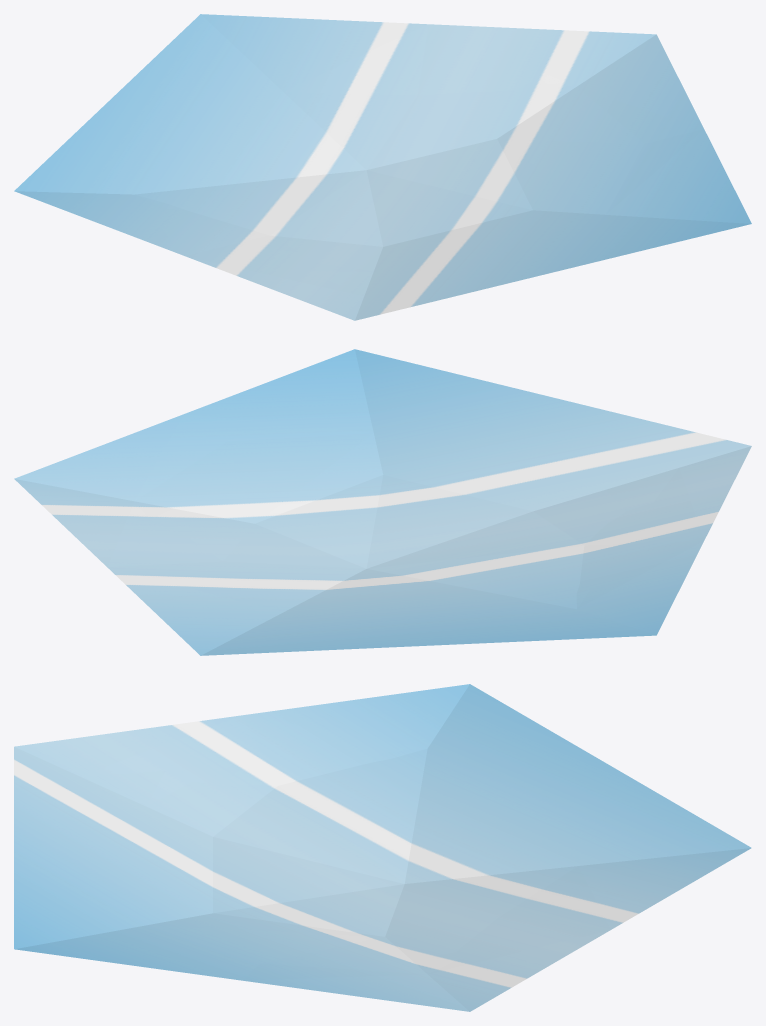
File: silly_cp_glass.fbx
The picture shows the model from 3 angles, top to bottom: view 1: azimuth 30°, elevation 25°; view 2: azimuth 150°, elevation 25°; view 3: azimuth 270°, elevation 25°; orthographic projection. The views are drawn at different scales.
Visible parts, largest first — view 1: glass#3, glass#2; view 2: glass#3, glass#2; view 3: glass#3, glass#2.
Part boxes in pixels (x1,y1,x2,y2): glass#3: [14, 14, 751, 320]; glass#2: [136, 82, 750, 295]; glass#3: [14, 349, 751, 655]; glass#2: [134, 349, 678, 608]; glass#3: [14, 684, 751, 1011]; glass#2: [14, 733, 459, 974].
Size of the model in its own units: 2.1 by 0.1077 by 2.
1 material, 1 textured.
